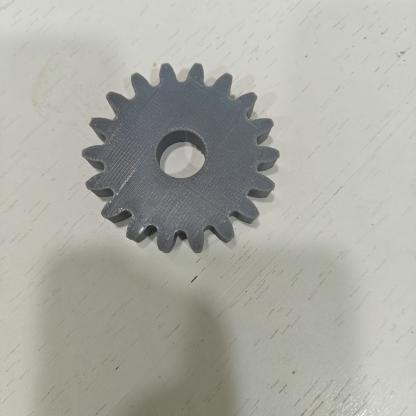gear: (70, 52, 300, 263)
